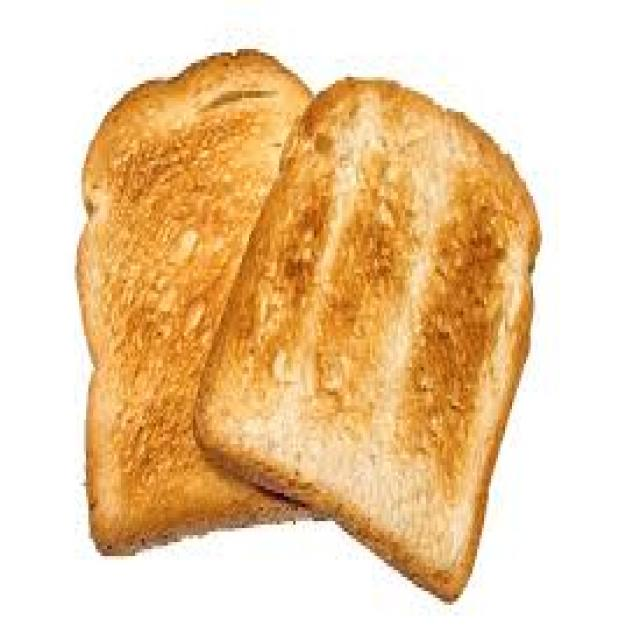organic waste: (193, 73, 540, 598), (77, 45, 328, 552)
